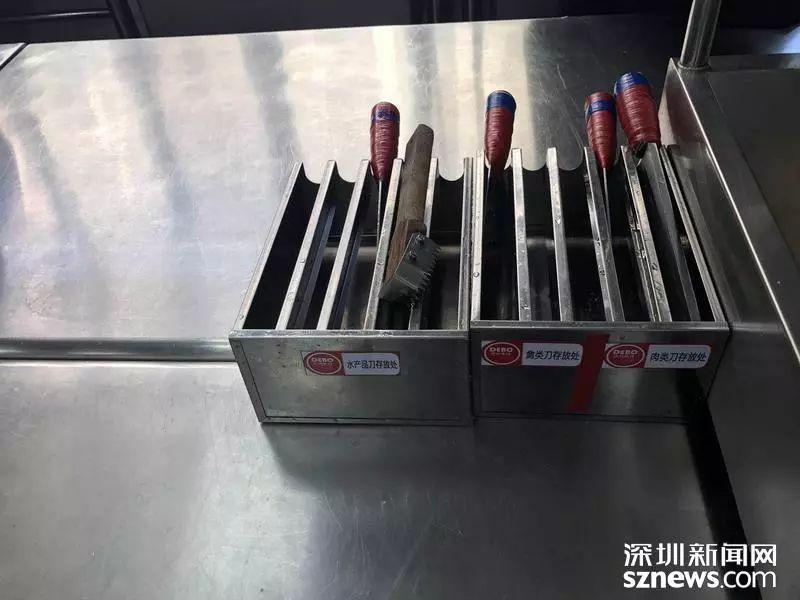knife: (464, 70, 723, 357)
